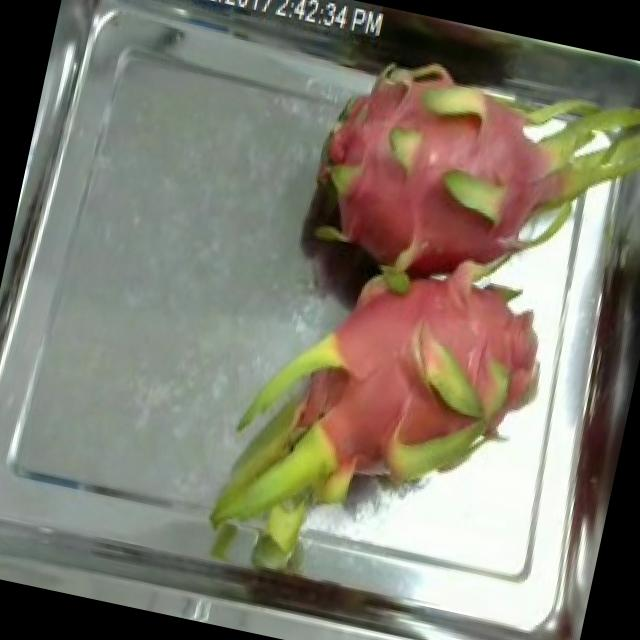Fruit: (405, 257, 573, 448), (278, 210, 388, 330)
